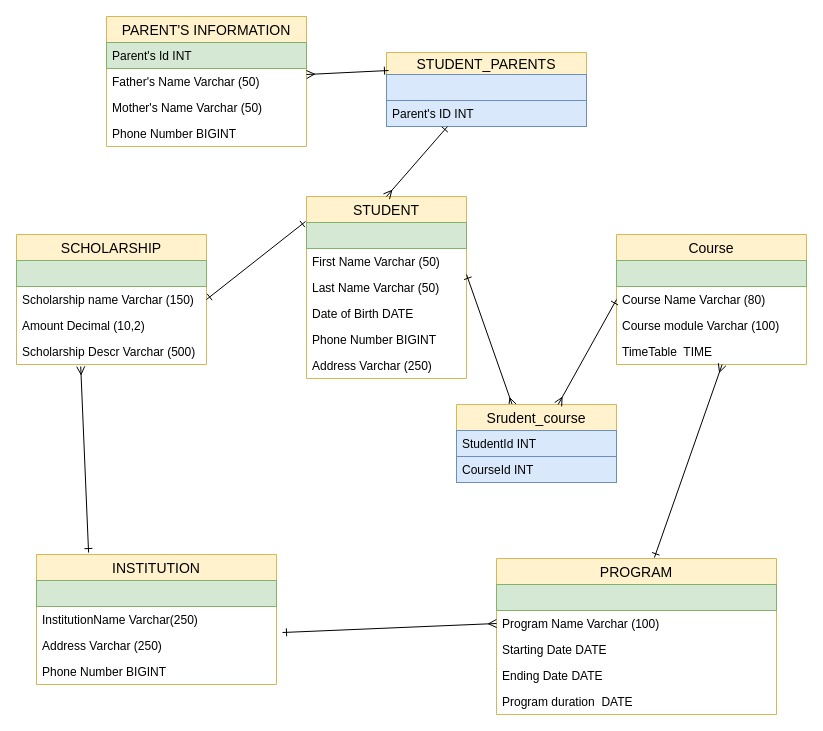
Some shapes in this 823 by 731 pixel diagram are drawn without their labels. Here are the shapes that lost their labels. From the top down, the centre of each, then its label:
At pixel 486 87: "Student's Id INT".
At pixel 386 235: "Student ID INT".
At pixel 111 273: "ScholarshipId INT".
At pixel 711 273: "Course Id INT".
At pixel 156 593: "DLI Number INT".
At pixel 636 597: "ProgramId INT".
